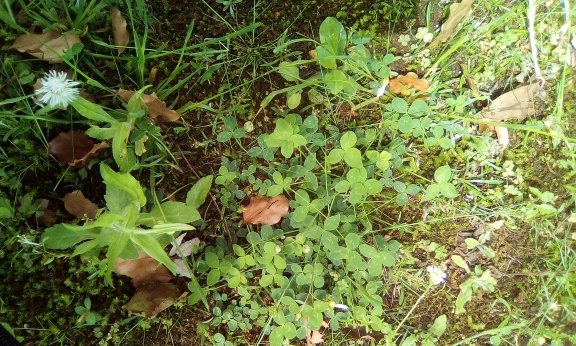4leaf: (264, 117, 307, 159)
